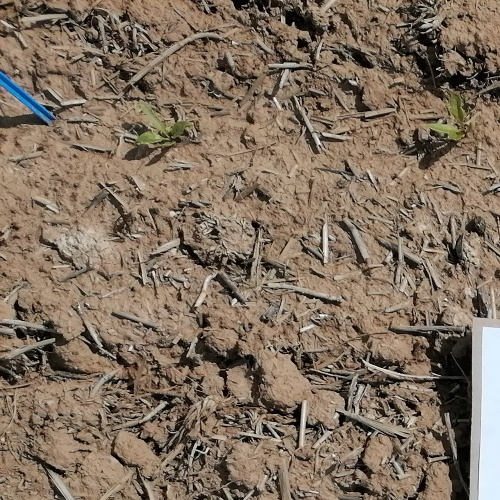beet: (132, 99, 194, 146), (427, 91, 469, 142)
